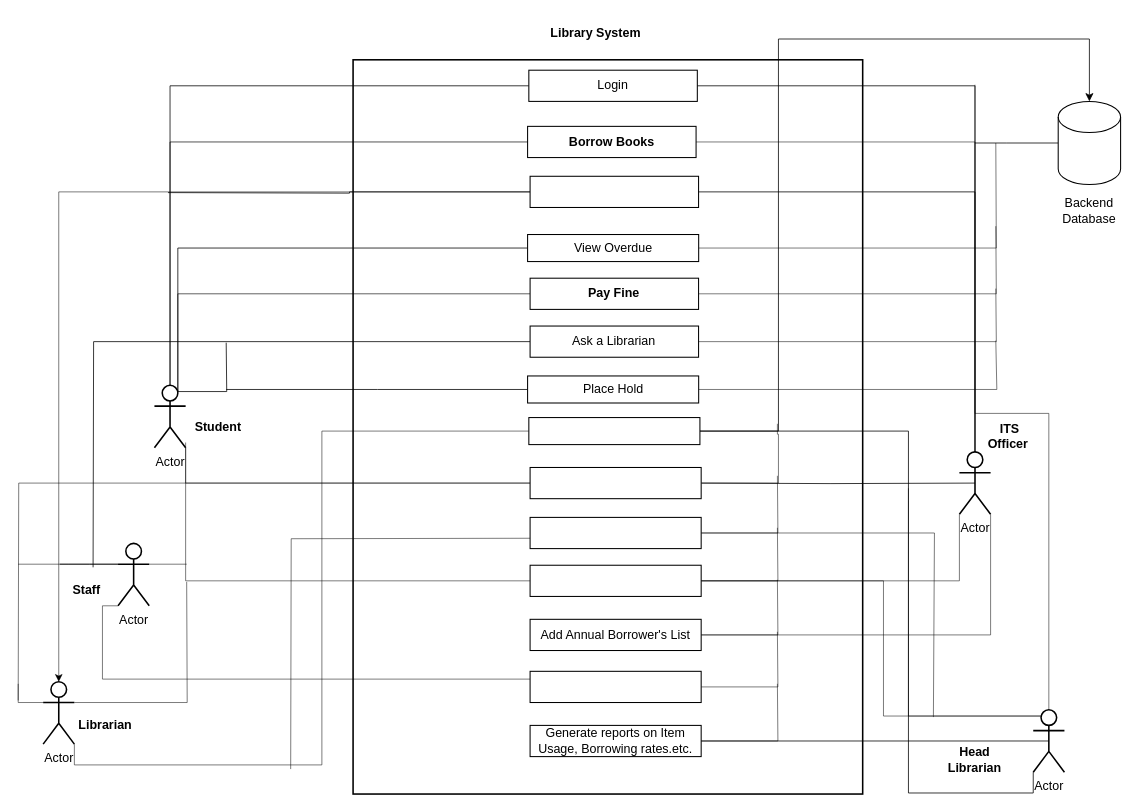
Some shapes in this 1139 by 812 pixel diagram are drawn without their labels. Here are the shapes that lost their labels. From the top down, the centre of each, then its label:
At pixel 614 191: "Renew a loan".
At pixel 614 431: "Full Access Browse".
At pixel 615 482: "Item Search Catalogue".
At pixel 615 532: "Create Borrower account".
At pixel 615 580: "Book a Room".
At pixel 615 686: "Reserve /Restrict a Borrowing".
